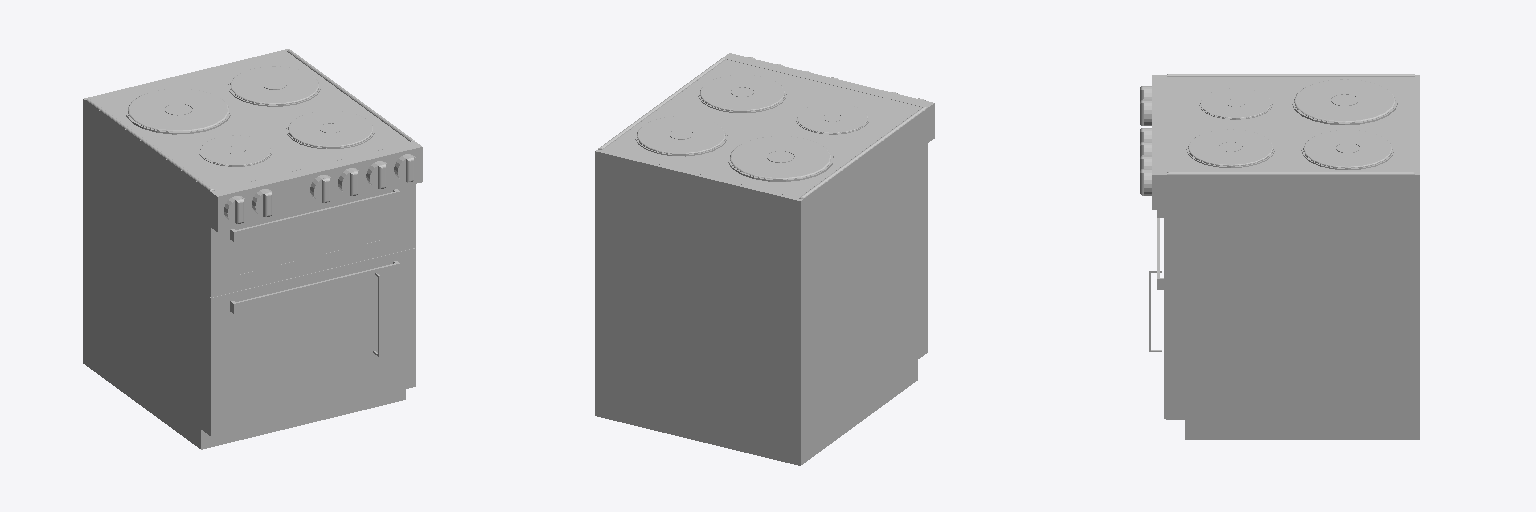
Rendered from Oven.obj.
The picture shows the model from 3 angles: view 1: azimuth 30°, elevation 25°; view 2: azimuth 150°, elevation 25°; view 3: azimuth 270°, elevation 25°; orthographic projection.
Parts seen in each view (by area): view 1: KitchenModular:OvenKitchencabinet, KitchenModular:OvenOvendoor3, KitchenModular:OvenOvendoor, Cooker, KitchenModular:OvenOvendoor4, KitchenModular:DrawOvenDraw_door, KitchenModular:OvenInsideCabinet14, KitchenModular:OvenKitchencabinet2, KitchenModular:OvenStovesStovesStove2, KitchenModular:OvenStovesStovesStove3, KitchenModular:OvenStoveStovesStoves, KitchenModular:OvenOvendoortophandle1 (+5 smaller); view 2: KitchenModular:OvenInsideCabinet3, KitchenModular:OvenKitchencabinet, Cooker, KitchenModular:OvenStovesStovesStove2, KitchenModular:OvenStovesStovesStove3, KitchenModular:OvenKitchencabinet2, KitchenModular:OvenStoveStovesStoves, KitchenModular:DrawOvenDraw_door, KitchenModular:OvenStovesStovesStove1, KitchenModular:OvenKitchencabinet4, KitchenModular:OvenKitchencabinet3; view 3: KitchenModular:OvenKitchencabinet1, Cooker, KitchenModular:OvenKitchencabinet2, KitchenModular:OvenStovesStovesStove2, KitchenModular:OvenStovesStovesStove3, KitchenModular:OvenStoveStovesStoves, KitchenModular:DrawOvenDraw_door, KitchenModular:OvenInsideCabinet3, KitchenModular:OvenStovesStovesStove1, KitchenModular:OvenKitchencabinet3, KitchenModular:OvenKitchencabinet4.
Boxes of the visible parts, x1,y1,x2,y2 form: KitchenModular:OvenKitchencabinet: [86, 101, 210, 435]; KitchenModular:OvenOvendoor3: [210, 248, 415, 436]; KitchenModular:OvenOvendoor: [234, 279, 393, 397]; Cooker: [91, 52, 410, 190]; KitchenModular:OvenOvendoor4: [210, 184, 415, 297]; KitchenModular:DrawOvenDraw_door: [210, 142, 422, 231]; KitchenModular:OvenInsideCabinet14: [234, 204, 393, 275]; KitchenModular:OvenKitchencabinet2: [86, 346, 405, 449]; KitchenModular:OvenStovesStovesStove2: [128, 89, 228, 131]; KitchenModular:OvenStovesStovesStove3: [230, 66, 318, 103]; KitchenModular:OvenStoveStovesStoves: [288, 111, 372, 146]; KitchenModular:OvenOvendoortophandle1: [230, 189, 400, 241]; KitchenModular:OvenInsideCabinet3: [595, 150, 802, 465]; KitchenModular:OvenKitchencabinet: [803, 109, 926, 443]; Cooker: [602, 59, 921, 197]; KitchenModular:OvenStovesStovesStove2: [730, 136, 830, 178]; KitchenModular:OvenStovesStovesStove3: [637, 116, 725, 153]; KitchenModular:OvenKitchencabinet2: [803, 360, 917, 463]; KitchenModular:OvenStoveStovesStoves: [700, 75, 784, 110]; KitchenModular:DrawOvenDraw_door: [723, 53, 934, 143]; KitchenModular:OvenStovesStovesStove1: [797, 103, 867, 132]; KitchenModular:OvenKitchencabinet4: [799, 107, 926, 198]; KitchenModular:OvenKitchencabinet3: [598, 58, 725, 149]; KitchenModular:OvenKitchencabinet1: [1166, 173, 1414, 419]; Cooker: [1166, 77, 1414, 172]; KitchenModular:OvenKitchencabinet2: [1185, 419, 1414, 439]; KitchenModular:OvenStovesStovesStove2: [1294, 79, 1395, 122]; KitchenModular:OvenStovesStovesStove3: [1303, 130, 1392, 167]; KitchenModular:OvenStoveStovesStoves: [1188, 129, 1273, 165]; KitchenModular:DrawOvenDraw_door: [1152, 75, 1165, 209]; KitchenModular:OvenInsideCabinet3: [1415, 75, 1419, 439]; KitchenModular:OvenStovesStovesStove1: [1200, 88, 1270, 117]; KitchenModular:OvenKitchencabinet3: [1167, 172, 1414, 174]; KitchenModular:OvenKitchencabinet4: [1167, 74, 1414, 76].
Bounding box in the file's own units: 4.12 × 5.14 × 4.88.